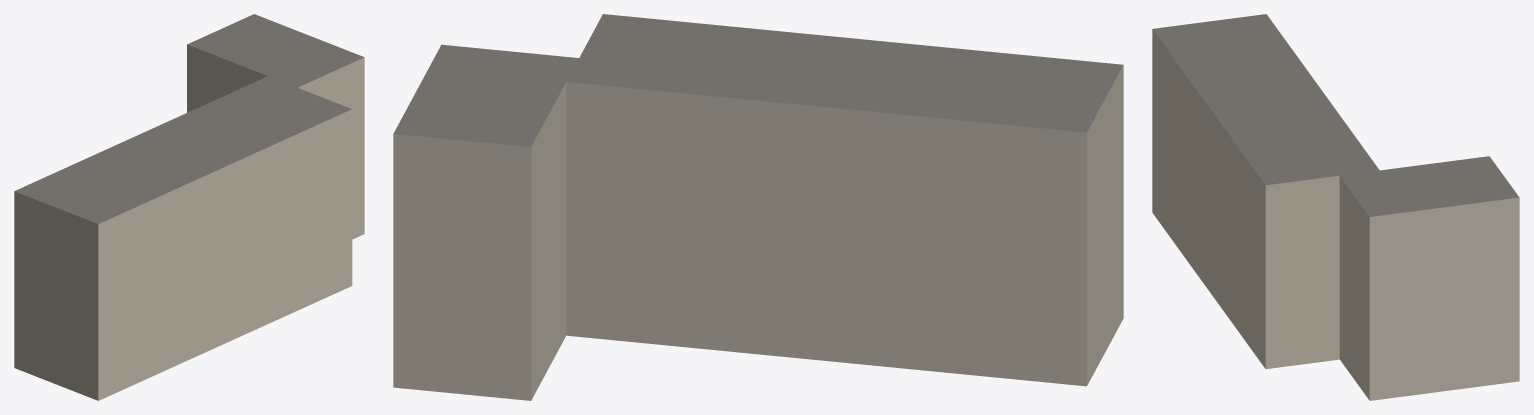
The picture shows the model from 3 angles, left to right: view 1: azimuth 30°, elevation 25°; view 2: azimuth 150°, elevation 25°; view 3: azimuth 270°, elevation 25°; orthographic projection. The views are drawn at different scales.
Parts seen in each view (by area): view 1: HP-w859488669; view 2: HP-w859488669; view 3: HP-w859488669.
Part boxes in pixels (left/top/right/bottom): HP-w859488669: left=14, top=14, right=364, bottom=400; HP-w859488669: left=393, top=14, right=1123, bottom=400; HP-w859488669: left=1152, top=14, right=1519, bottom=400.
Bounding box in the file's own units: 42.63 × 18 × 32.56.
